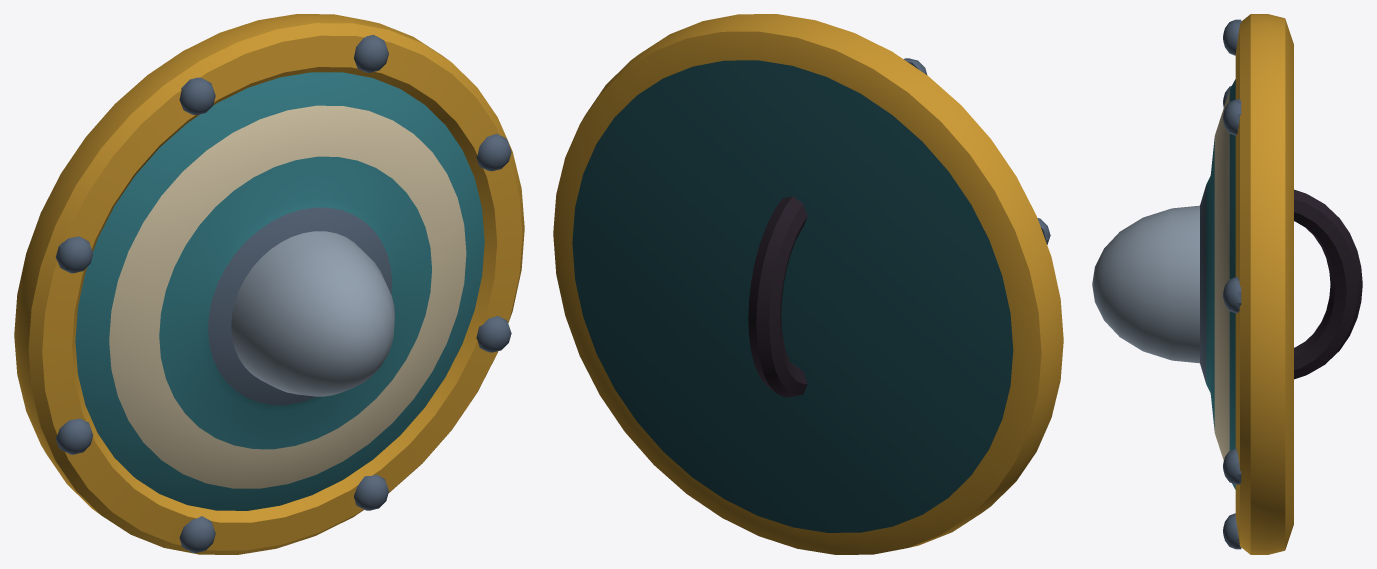
The model's file is RoundShield_06.glb.
3 views of the same model, side by side, from view 1: azimuth 30°, elevation 25°; view 2: azimuth 150°, elevation 25°; view 3: azimuth 270°, elevation 25° (orthographic). The views are drawn at different scales.
Visible parts, largest first — view 1: RoundShield_06; view 2: RoundShield_06; view 3: RoundShield_06.
Part boxes in pixels (box(x1,y1,x2,y2)): RoundShield_06: box(14, 14, 524, 554); RoundShield_06: box(553, 14, 1063, 554); RoundShield_06: box(1092, 14, 1362, 554).
Size of the model in its own units: 2.51 by 2.51 by 1.26.
